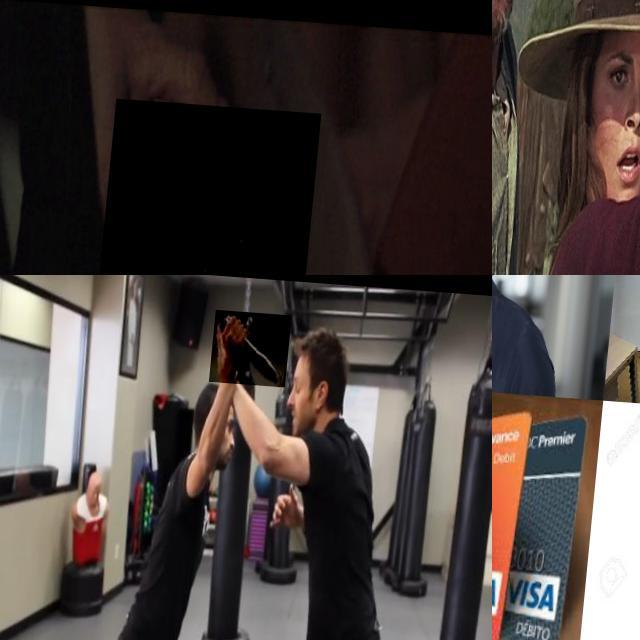-: (210, 306, 292, 382)
gun-knife-thesis - v11 Yolov5 augmented: (80, 96, 323, 275)
